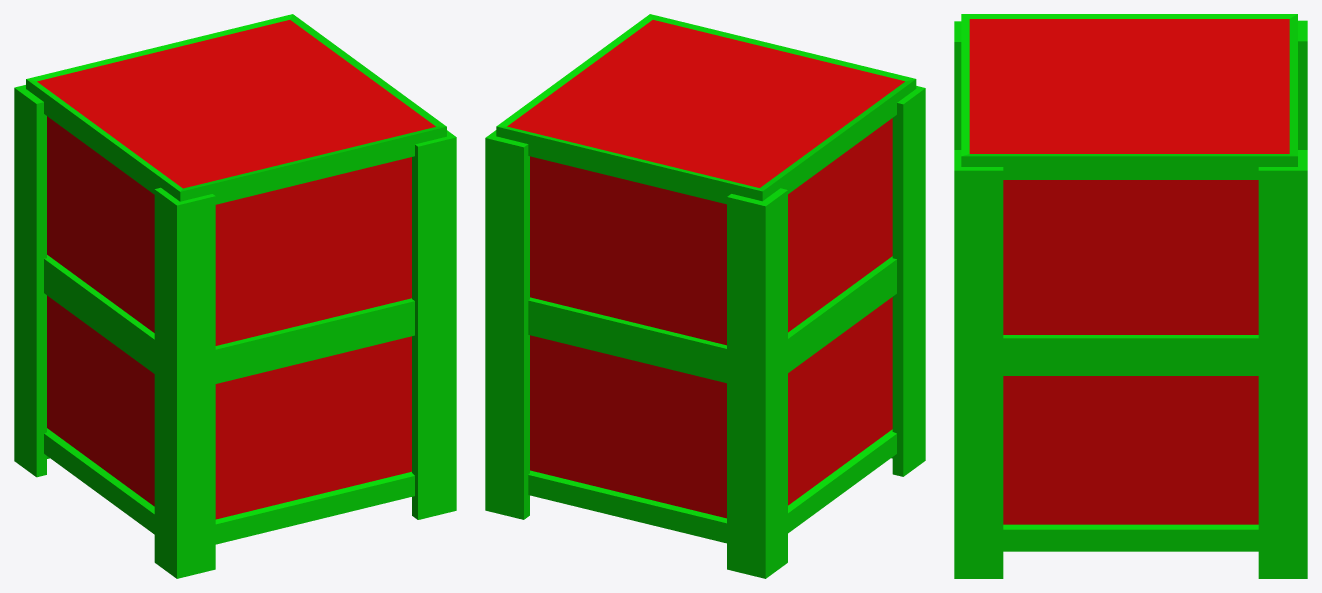
File: tf2_Crate_model_export.fbx
3 views of the same model, side by side, from view 1: azimuth 30°, elevation 25°; view 2: azimuth 150°, elevation 25°; view 3: azimuth 270°, elevation 25° (orthographic). The views are drawn at different scales.
Visible parts, largest first — view 1: pCube2, pCube7, pCube4, pCube9; view 2: pCube2, pCube9, pCube8, pCube7; view 3: pCube2, pCube8, pCube4, pCube9, pCube7.
Part boxes in pixels (left/top/right/bottom): pCube2: left=26, top=14, right=446, bottom=544; pCube7: left=154, top=187, right=215, bottom=578; pCube4: left=412, top=130, right=456, bottom=519; pCube9: left=14, top=85, right=49, bottom=477; pCube2: left=496, top=14, right=916, bottom=543; pCube9: left=727, top=188, right=787, bottom=578; pCube8: left=485, top=130, right=529, bottom=519; pCube7: left=891, top=86, right=925, bottom=476; pCube2: left=961, top=14, right=1297, bottom=551; pCube8: left=1258, top=150, right=1307, bottom=578; pCube4: left=954, top=150, right=1003, bottom=578; pCube9: left=1298, top=20, right=1307, bottom=149; pCube7: left=954, top=21, right=961, bottom=149.
Bounding box in the file's own units: 1.1 × 1.1 × 1.44.
